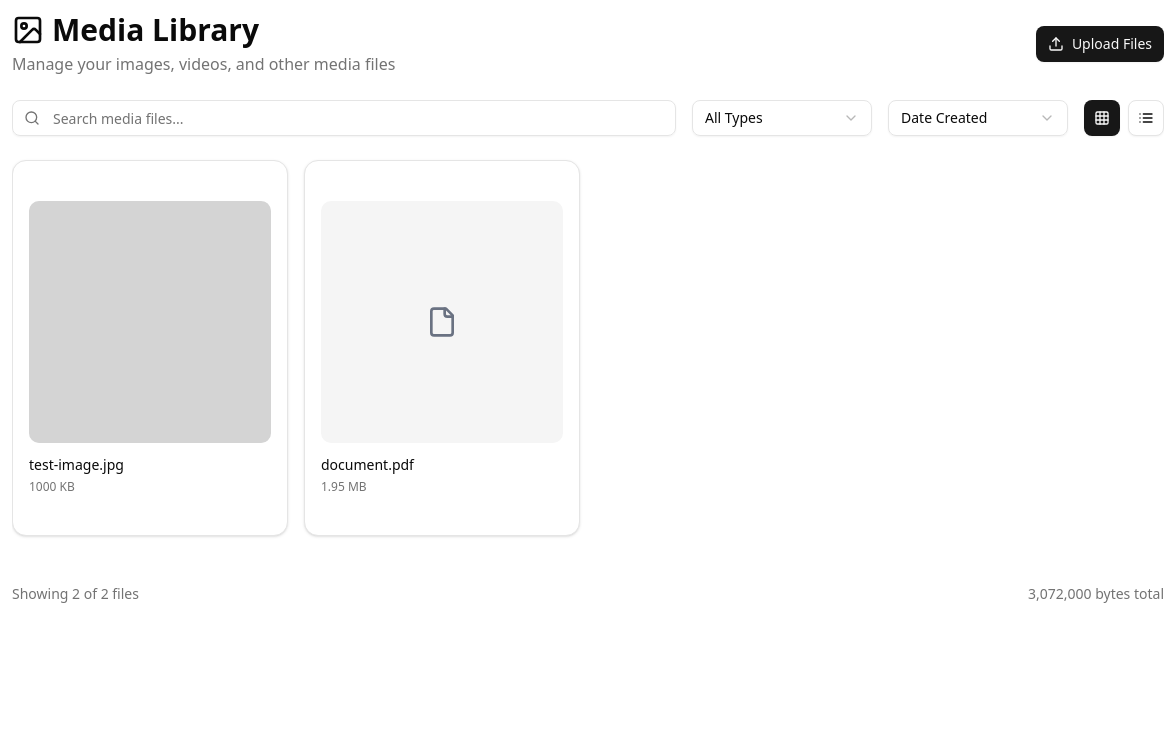
Test: MediaLibrary Component › Search and Filtering › filters files based on search query
The width and height of the screenshot is (1176, 732).
In the field with placeholder "Search media files...": (344, 118) [12,100,676,136], type "test-image"
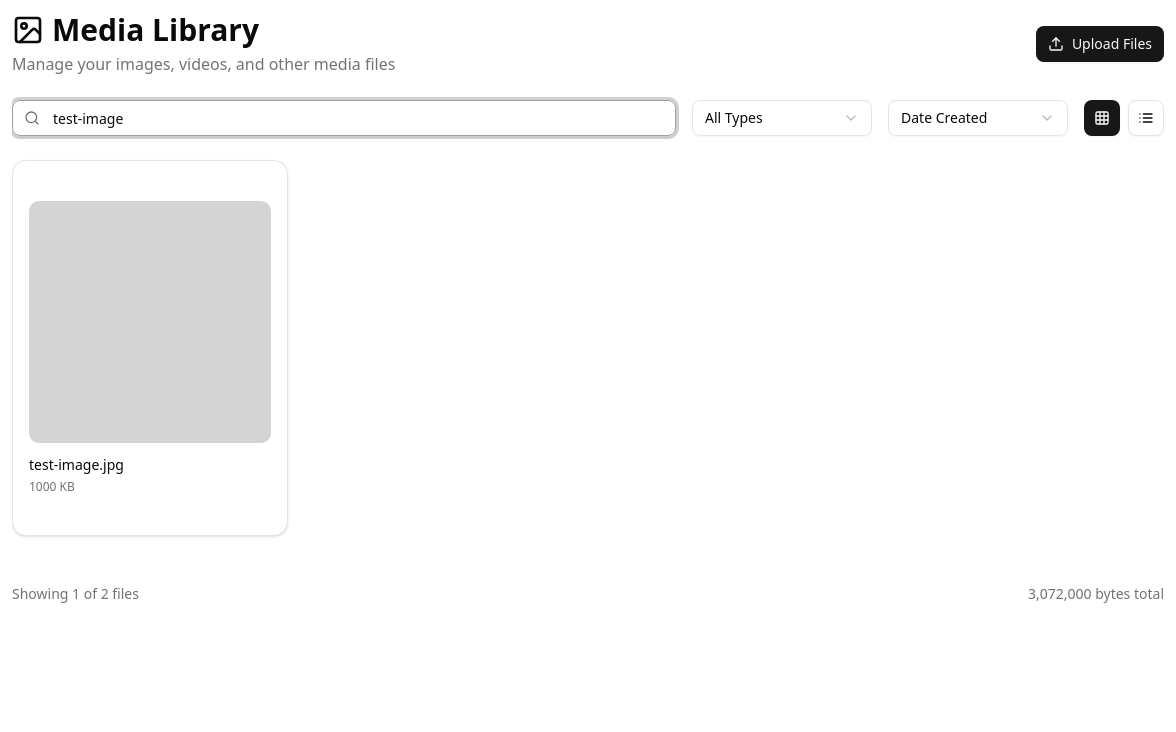
Expected: the text "test-image.jpg" is shown, [29,455,124,474]
Expected: the text "document.pdf" is gone
